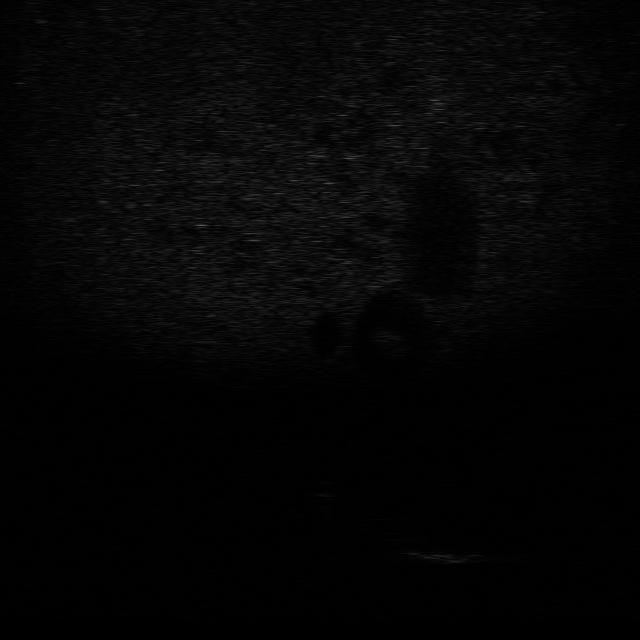ball: (303, 477, 347, 501)
metal bucket: (401, 542, 494, 570)
tyre: (354, 511, 444, 543)
